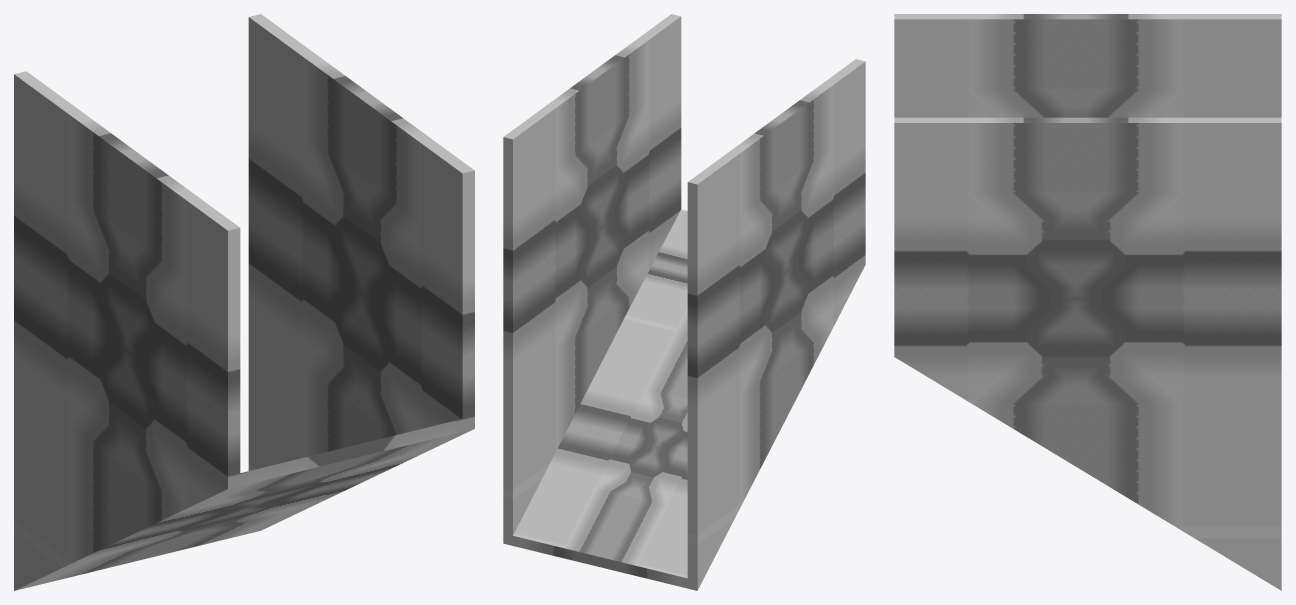
File: tile6.dae
The picture shows the model from 3 angles, left to right: view 1: azimuth 30°, elevation 25°; view 2: azimuth 150°, elevation 25°; view 3: azimuth 270°, elevation 25°; orthographic projection. The views are drawn at different scales.
Parts seen in each view (by area): view 1: Cube; view 2: Cube; view 3: Cube.
Boxes of the visible parts, x1,y1,x2,y2 form: Cube: (14,14,474,590); Cube: (503,14,865,590); Cube: (894,14,1281,590).
Bounding box in the file's own units: 2 × 3 × 4.
Materials: 1 (1 with a texture image).
